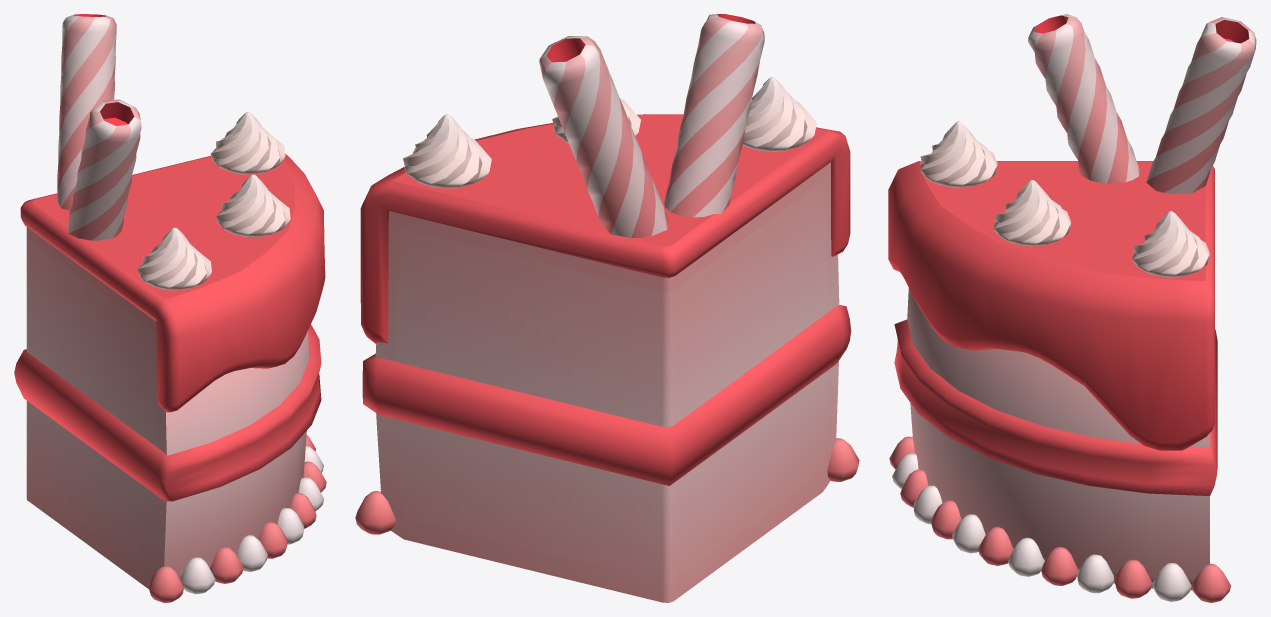
Rendered from Cake_Strawberry_Slice_V3_00.fbx.
3 views of the same model, side by side, from view 1: azimuth 30°, elevation 25°; view 2: azimuth 150°, elevation 25°; view 3: azimuth 270°, elevation 25° (orthographic). The views are drawn at different scales.
Parts seen in each view (by area): view 1: Cake_Strawberry_Slice_V3_00; view 2: Cake_Strawberry_Slice_V3_00; view 3: Cake_Strawberry_Slice_V3_00.
Boxes of the visible parts, x1,y1,x2,y2 form: Cake_Strawberry_Slice_V3_00: (14,14,326,602); Cake_Strawberry_Slice_V3_00: (355,14,859,602); Cake_Strawberry_Slice_V3_00: (888,14,1256,602).
Bounding box in the file's own units: 34.82 × 55.06 × 37.62.
